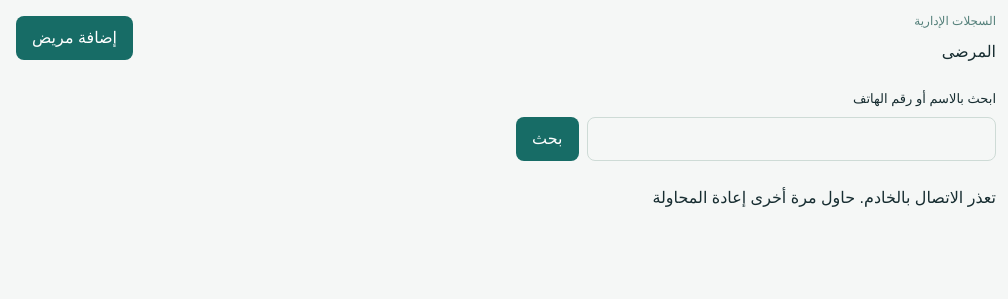
Test: patient list reports a connection failure in Arabic and recovers on retry
expect the message shows "تعذر الاتصال بالخادم": met, box [751,188,996,206]
Step 1. Click the button "إعادة المحاولة" → coordinates (699, 198), box [652,186,746,210]
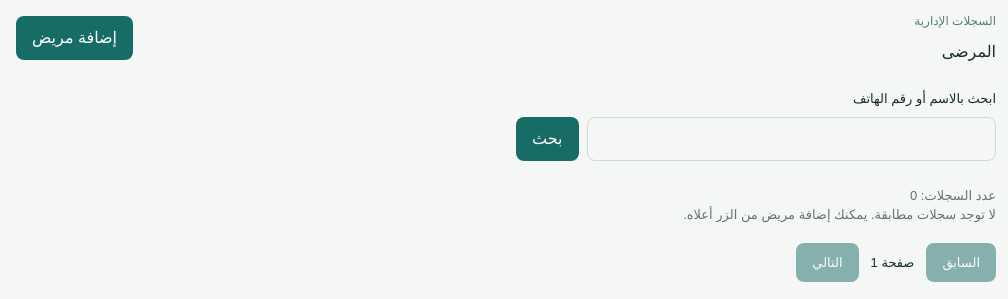
expect the text "عدد السجلات: 0" is shown: met, box [910,188,996,202]
